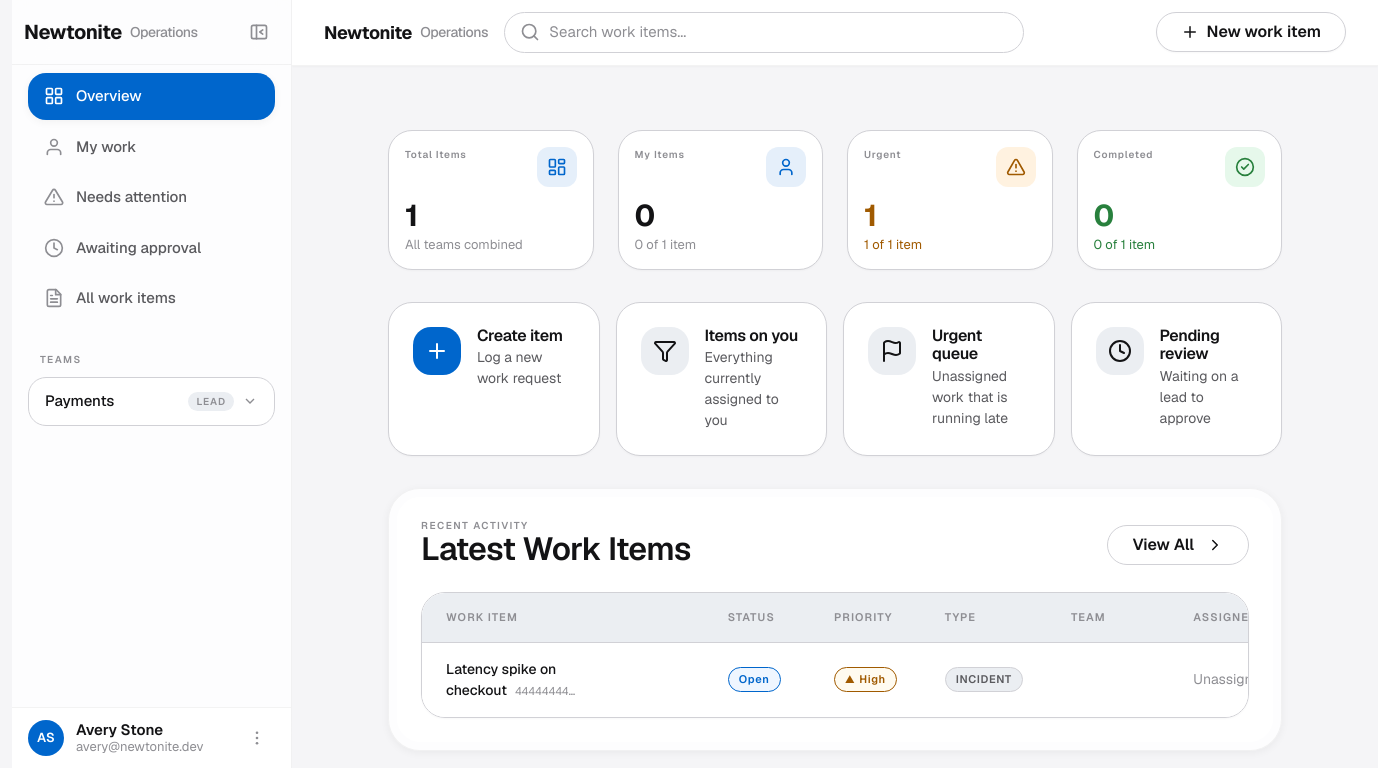
Scenario: AppShell navigation › toggles the collapse control in both directions
Expected: the text "Overview" is shown, x1=76 y1=85 x2=142 y2=108
Click the button named "collapse sidebar". click: (259, 32)
box: x1=239 y1=12 x2=279 y2=52
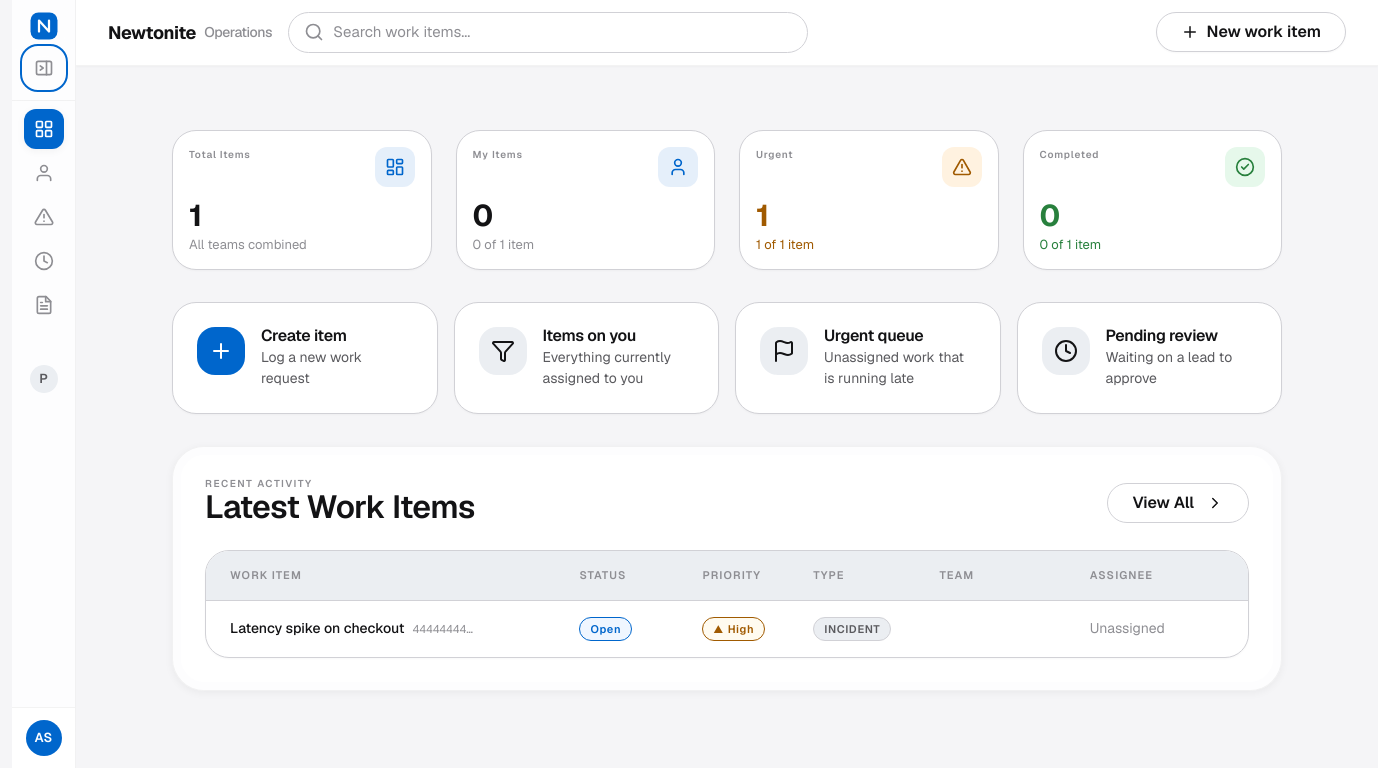
Result: the button named "expand sidebar" is shown
Click the button named "expand sidebar". click: (44, 68)
box: x1=24 y1=48 x2=64 y2=88
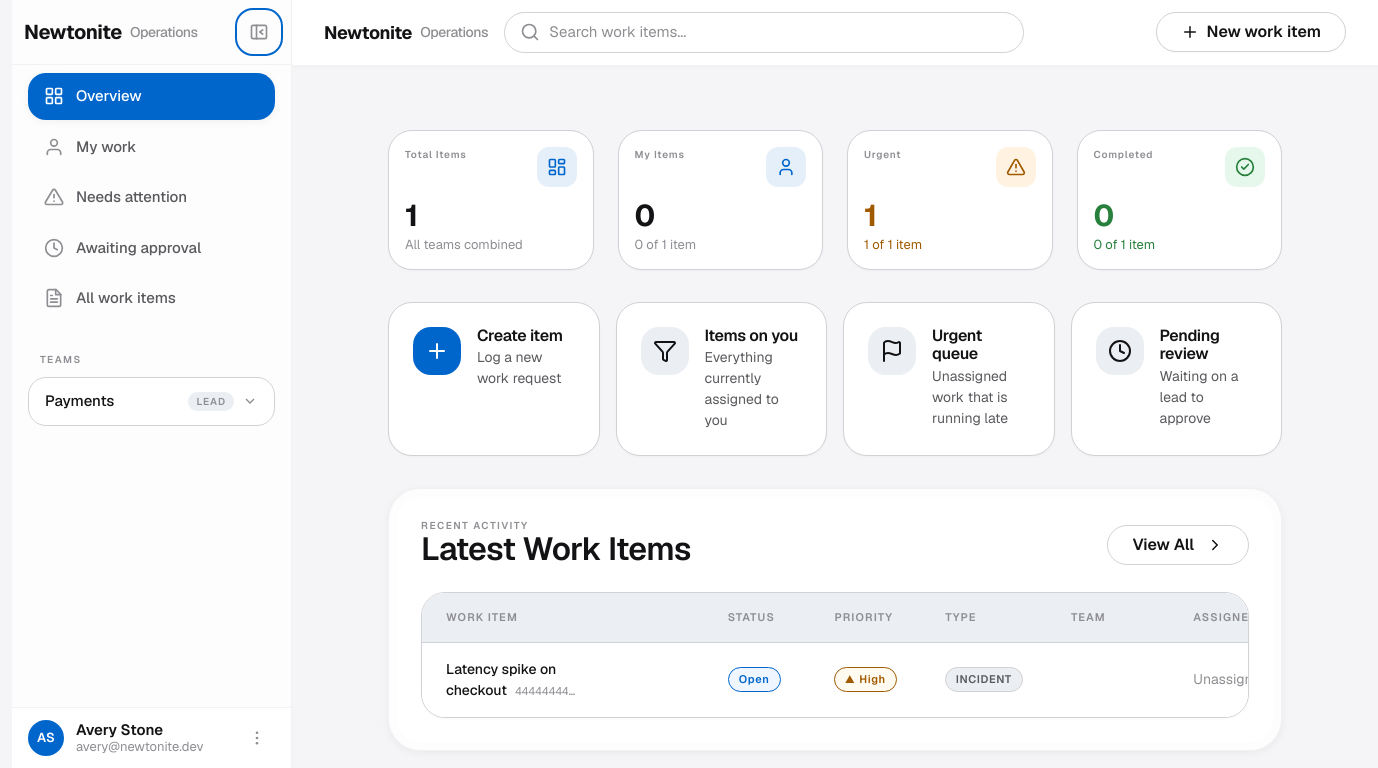
Result: the button named "collapse sidebar" is shown at x1=239 y1=12 x2=279 y2=52
